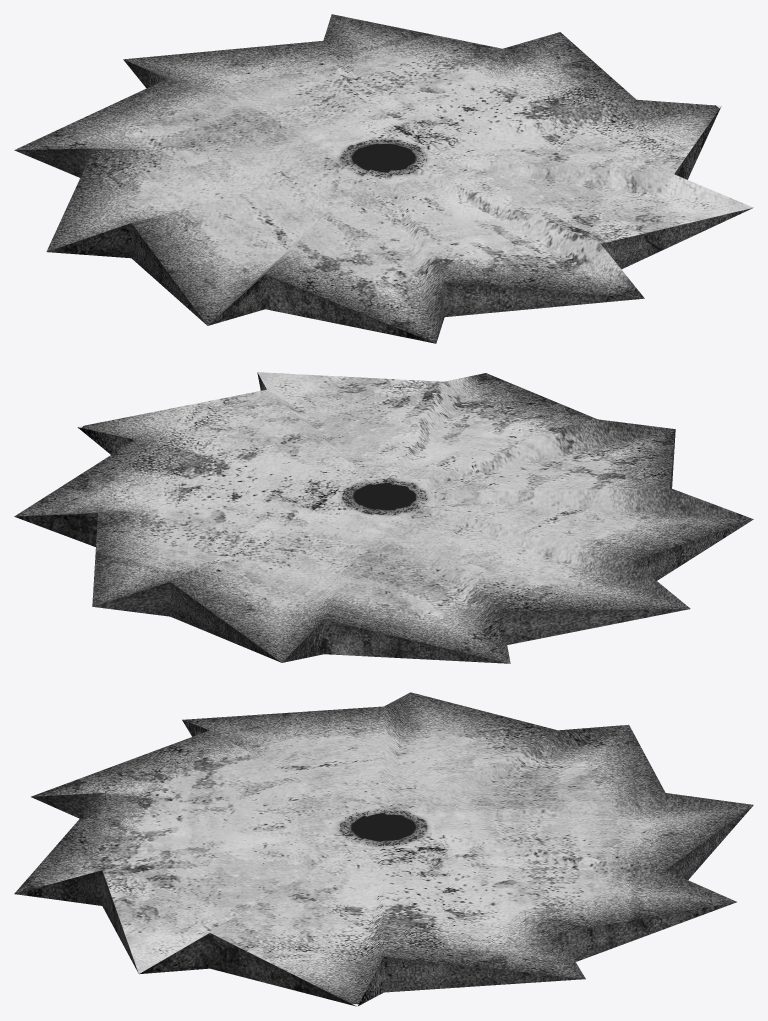
File: slasher_sawBlade_mesh.fbx
3 views of the same model, one above another, from view 1: azimuth 30°, elevation 25°; view 2: azimuth 150°, elevation 25°; view 3: azimuth 270°, elevation 25° (orthographic). The views are drawn at different scales.
Visible parts, largest first — view 1: pasted__pCylinder1; view 2: pasted__pCylinder1; view 3: pasted__pCylinder1.
Boxes of the visible parts, bbox=[...] form: pasted__pCylinder1: bbox=[14, 14, 753, 343]; pasted__pCylinder1: bbox=[14, 372, 753, 663]; pasted__pCylinder1: bbox=[14, 692, 753, 1006].
Bounding box in the file's own units: 150 × 10 × 146.
Materials: 1 (1 with a texture image).
